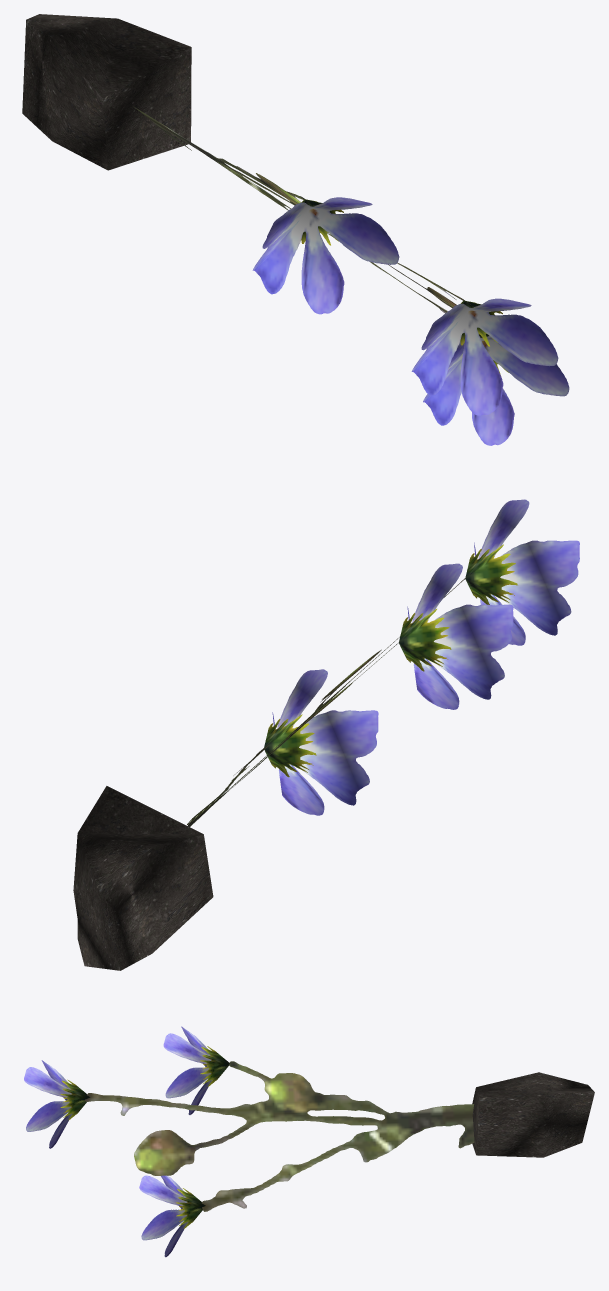
The model's file is com_flower_blue3_LOD0.obj.
The picture shows the model from 3 angles, top to bottom: view 1: azimuth 30°, elevation 25°; view 2: azimuth 150°, elevation 25°; view 3: azimuth 270°, elevation 25°; orthographic projection. The views are drawn at different scales.
Visible parts, largest first — view 1: mtl_gardenflowers, mtl_plastic_bucket_soil; view 2: mtl_gardenflowers, mtl_plastic_bucket_soil; view 3: mtl_gardenflowers, mtl_plastic_bucket_soil.
Boxes of the visible parts, x1,y1,x2,y2 form: mtl_gardenflowers: (134,107,569,445); mtl_plastic_bucket_soil: (22,14,191,170); mtl_gardenflowers: (187,499,579,826); mtl_plastic_bucket_soil: (73,786,213,970); mtl_gardenflowers: (24,1026,474,1257); mtl_plastic_bucket_soil: (472,1072,594,1157).
Size of the model in its own units: 16.84 by 17.01 by 44.05.
